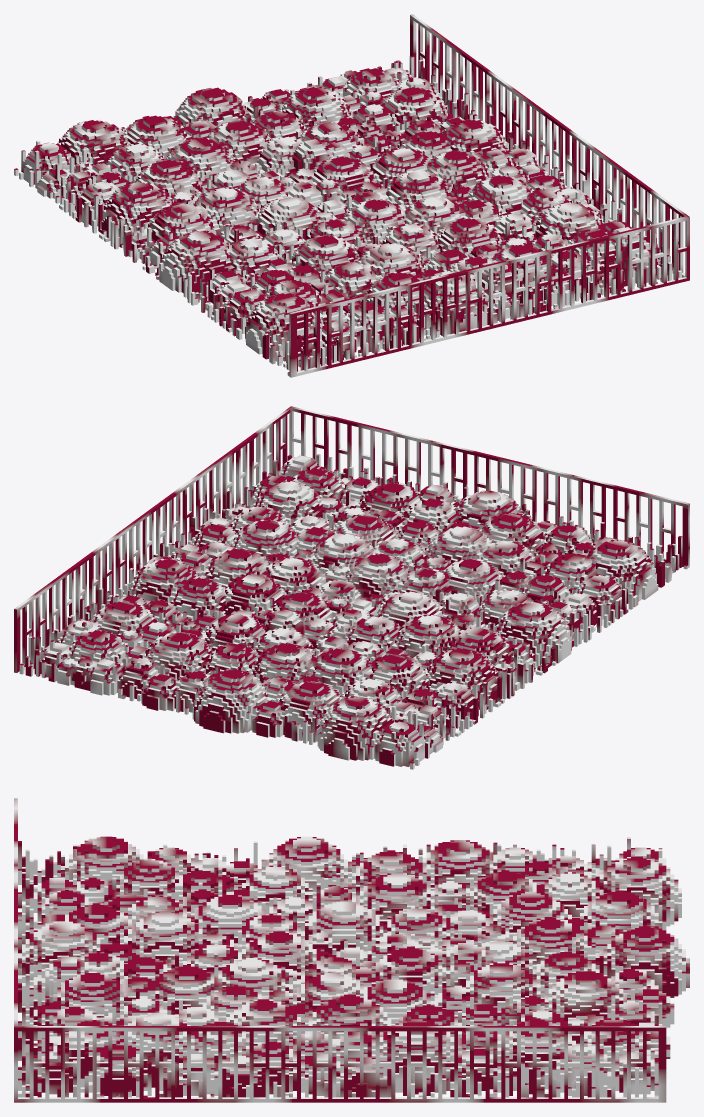
File: Jardin_04.fbx
The picture shows the model from 3 angles, top to bottom: view 1: azimuth 30°, elevation 25°; view 2: azimuth 150°, elevation 25°; view 3: azimuth 270°, elevation 25°; orthographic projection. The views are drawn at different scales.
Visible parts, largest first — view 1: Untitled.005; view 2: Untitled.005; view 3: Untitled.005.
Boxes of the visible parts, x1=… form: Untitled.005: x1=14, y1=14, x2=689, y2=377; Untitled.005: x1=14, y1=406, x2=689, y2=769; Untitled.005: x1=14, y1=798, x2=689, y2=1102.
Size of the model in its own units: 13.8 by 2.1 by 17.2.
